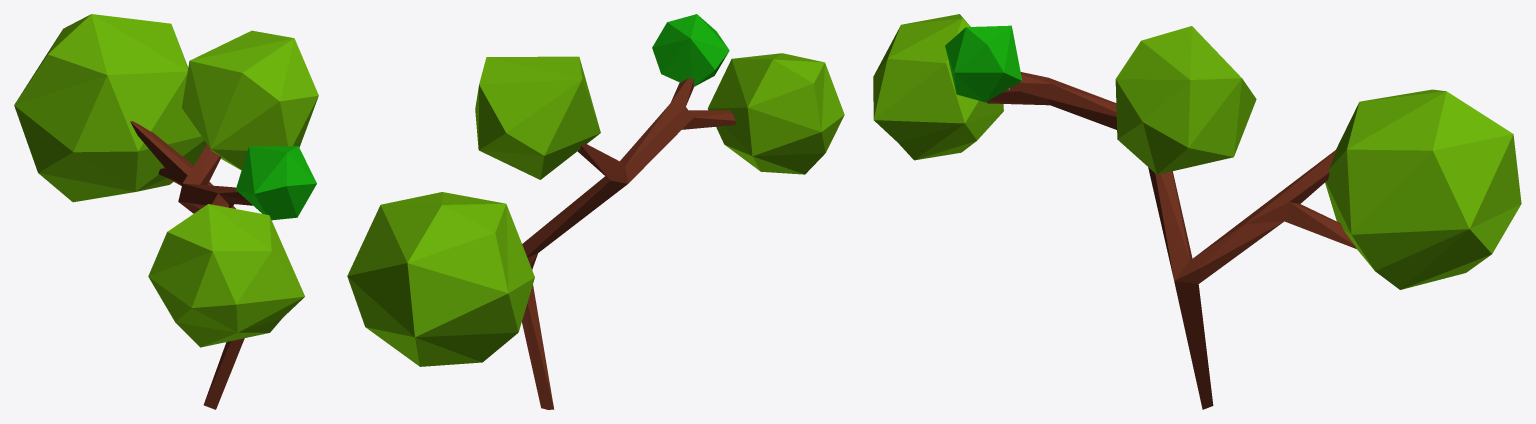
Rendered from tree2.obj.
3 views of the same model, side by side, from view 1: azimuth 30°, elevation 25°; view 2: azimuth 150°, elevation 25°; view 3: azimuth 270°, elevation 25° (orthographic). The views are drawn at different scales.
Parts seen in each view (by area): view 1: Cube; view 2: Cube; view 3: Cube.
Part boxes in pixels (x1=…): Cube: x1=14, y1=14, x2=318, y2=409; Cube: x1=347, y1=14, x2=844, y2=409; Cube: x1=873, y1=14, x2=1521, y2=409.
Size of the model in its own units: 7.54 by 9.73 by 15.51.
1 material, 1 textured.
